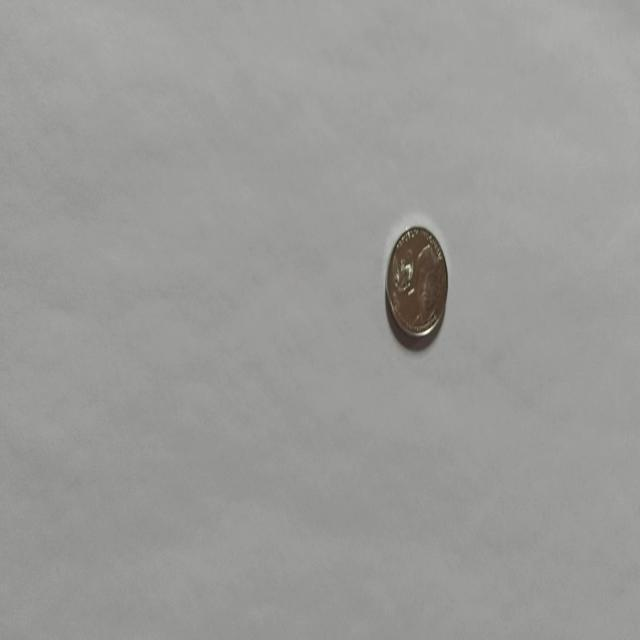dua ratus rupiah: (384, 223, 448, 342)
